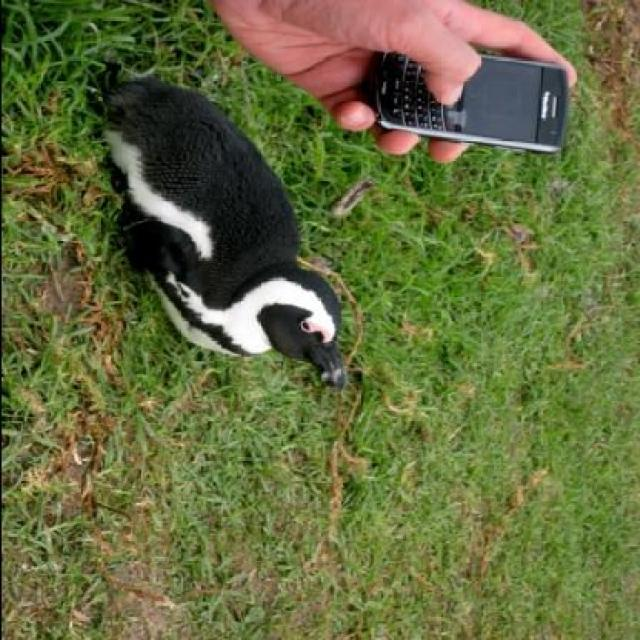phone: (370, 36, 568, 156)
